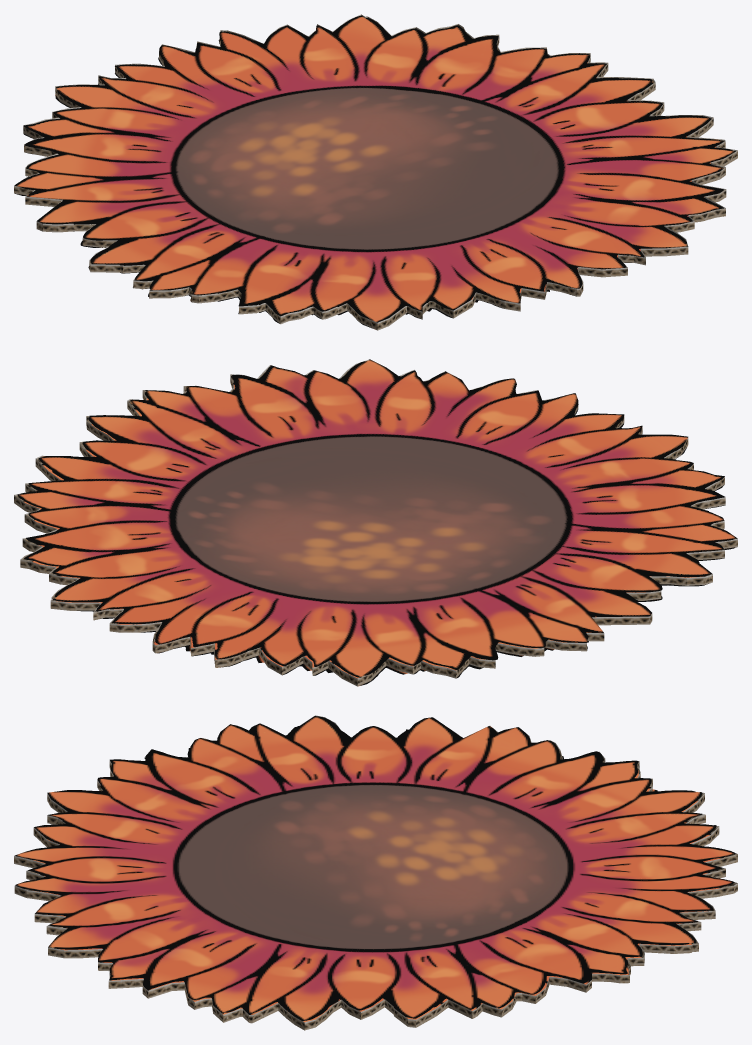
File: sprite_red_flower.fbx
3 views of the same model, one above another, from view 1: azimuth 30°, elevation 25°; view 2: azimuth 150°, elevation 25°; view 3: azimuth 270°, elevation 25° (orthographic). The views are drawn at different scales.
Visible parts, largest first — view 1: Cube; view 2: Cube; view 3: Cube.
Boxes of the visible parts, x1=… form: Cube: x1=14, y1=14, x2=737, y2=330; Cube: x1=14, y1=359, x2=737, y2=686; Cube: x1=14, y1=715, x2=737, y2=1030.
Bounding box in the file's own units: 323 × 4 × 322.
